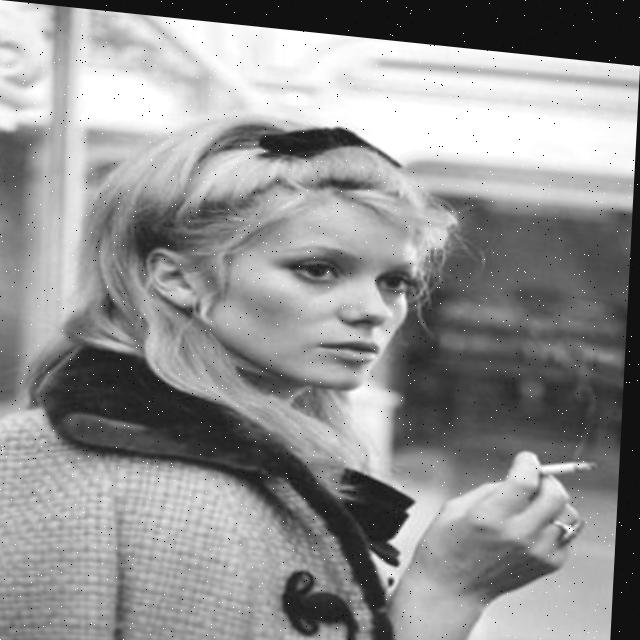cigarette: (542, 443, 601, 467)
